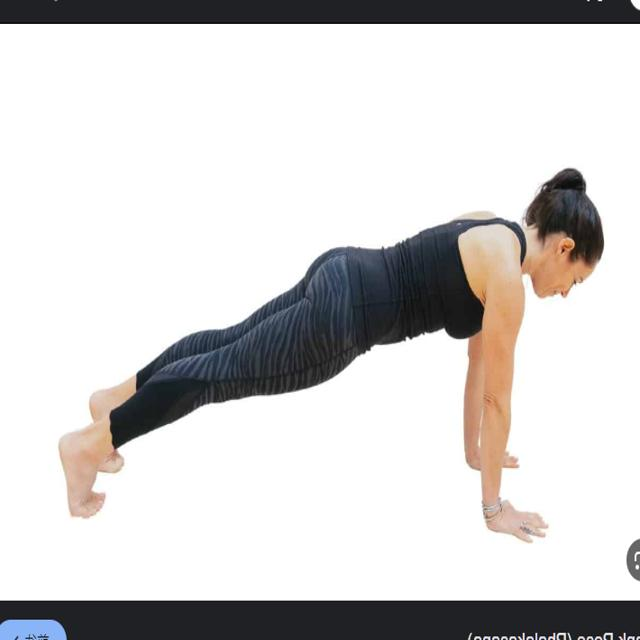Plank_Pose: (50, 164, 608, 549)
